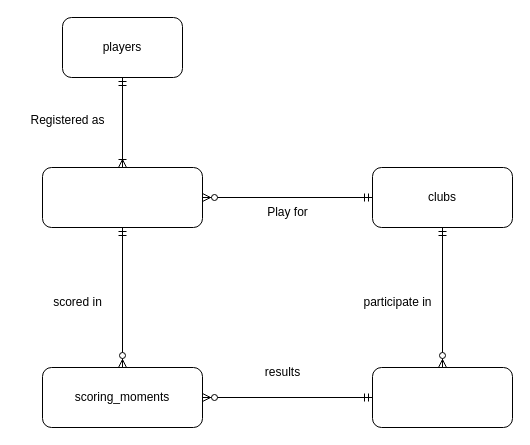
Some shapes in this 530 by 445 pixel diagram are drawn without their labels. The shapes that lost their labels are listed below. From the top down, each one's centre as x and y in pixels, then its label:
At point (122, 197): "player_registrations".
At point (442, 397): "matchs".
